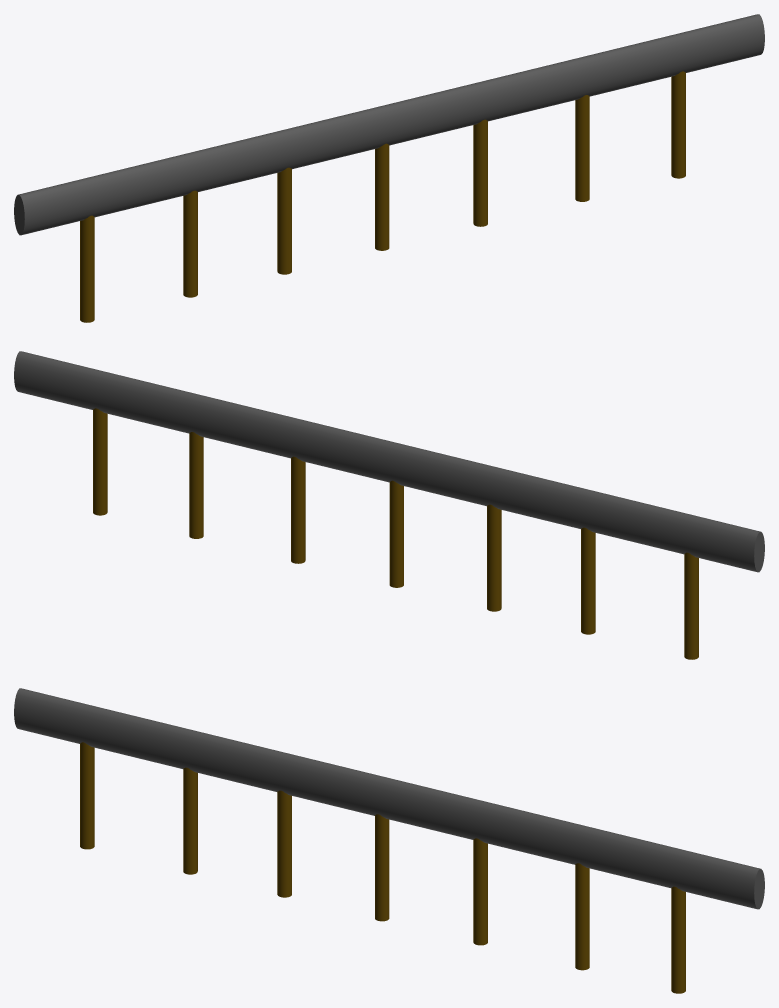
The model's file is railway.fbx.
The picture shows the model from 3 angles, top to bottom: view 1: azimuth 30°, elevation 25°; view 2: azimuth 150°, elevation 25°; view 3: azimuth 330°, elevation 25°; orthographic projection.
Visible parts, largest first — view 1: pCylinder1, pasted__pasted__pCylinder1, pasted__pasted__pCylinder3, pasted__pasted__pCylinder6, pasted__pasted__pCylinder4, pasted__pCylinder1, pasted__pasted__pCylinder2, pasted__pasted__pCylinder5; view 2: pCylinder1, pasted__pasted__pCylinder1, pasted__pasted__pCylinder3, pasted__pasted__pCylinder6, pasted__pasted__pCylinder4, pasted__pCylinder1, pasted__pasted__pCylinder2, pasted__pasted__pCylinder5; view 3: pCylinder1, pasted__pasted__pCylinder1, pasted__pasted__pCylinder2, pasted__pasted__pCylinder6, pasted__pCylinder1, pasted__pasted__pCylinder4, pasted__pasted__pCylinder3, pasted__pasted__pCylinder5.
Part boxes in pixels (<box>): pCylinder1: <box>14,14,764,235</box>; pasted__pasted__pCylinder1: <box>183,190,197,297</box>; pasted__pasted__pCylinder3: <box>375,143,389,250</box>; pasted__pasted__pCylinder6: <box>671,71,685,178</box>; pasted__pasted__pCylinder4: <box>473,119,487,226</box>; pasted__pCylinder1: <box>80,215,94,322</box>; pasted__pasted__pCylinder2: <box>277,167,291,274</box>; pasted__pasted__pCylinder5: <box>575,95,589,201</box>; pCylinder1: <box>14,351,764,572</box>; pasted__pasted__pCylinder1: <box>581,527,595,634</box>; pasted__pasted__pCylinder3: <box>389,480,403,587</box>; pasted__pasted__pCylinder6: <box>93,408,107,515</box>; pasted__pasted__pCylinder4: <box>291,456,305,563</box>; pasted__pCylinder1: <box>684,552,698,659</box>; pasted__pasted__pCylinder2: <box>487,504,501,611</box>; pasted__pasted__pCylinder5: <box>189,432,203,538</box>; pCylinder1: <box>14,688,764,909</box>; pasted__pasted__pCylinder1: <box>183,767,197,874</box>; pasted__pasted__pCylinder2: <box>277,790,291,897</box>; pasted__pasted__pCylinder6: <box>671,886,685,993</box>; pasted__pCylinder1: <box>80,742,94,849</box>; pasted__pasted__pCylinder4: <box>473,838,487,945</box>; pasted__pasted__pCylinder3: <box>375,814,389,921</box>; pasted__pasted__pCylinder5: <box>575,863,589,970</box>.
Size of the model in its own units: 27.29 by 4.98 by 0.6932.
